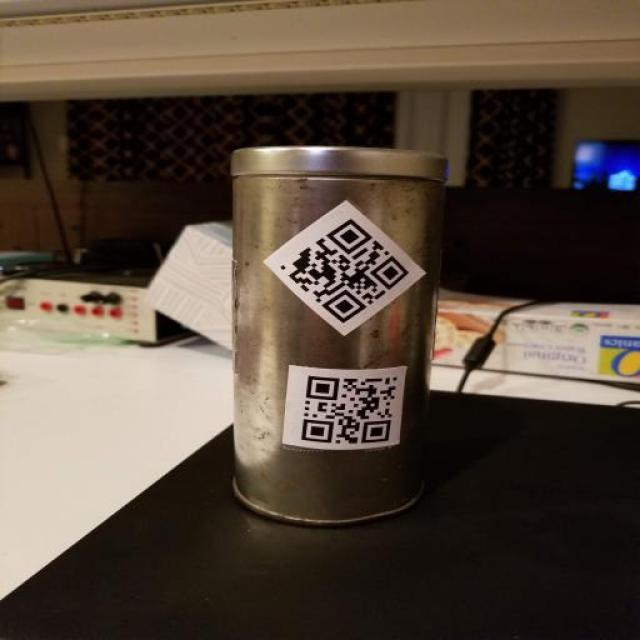QR_CODE: (270, 206, 415, 329), (293, 360, 407, 452)
